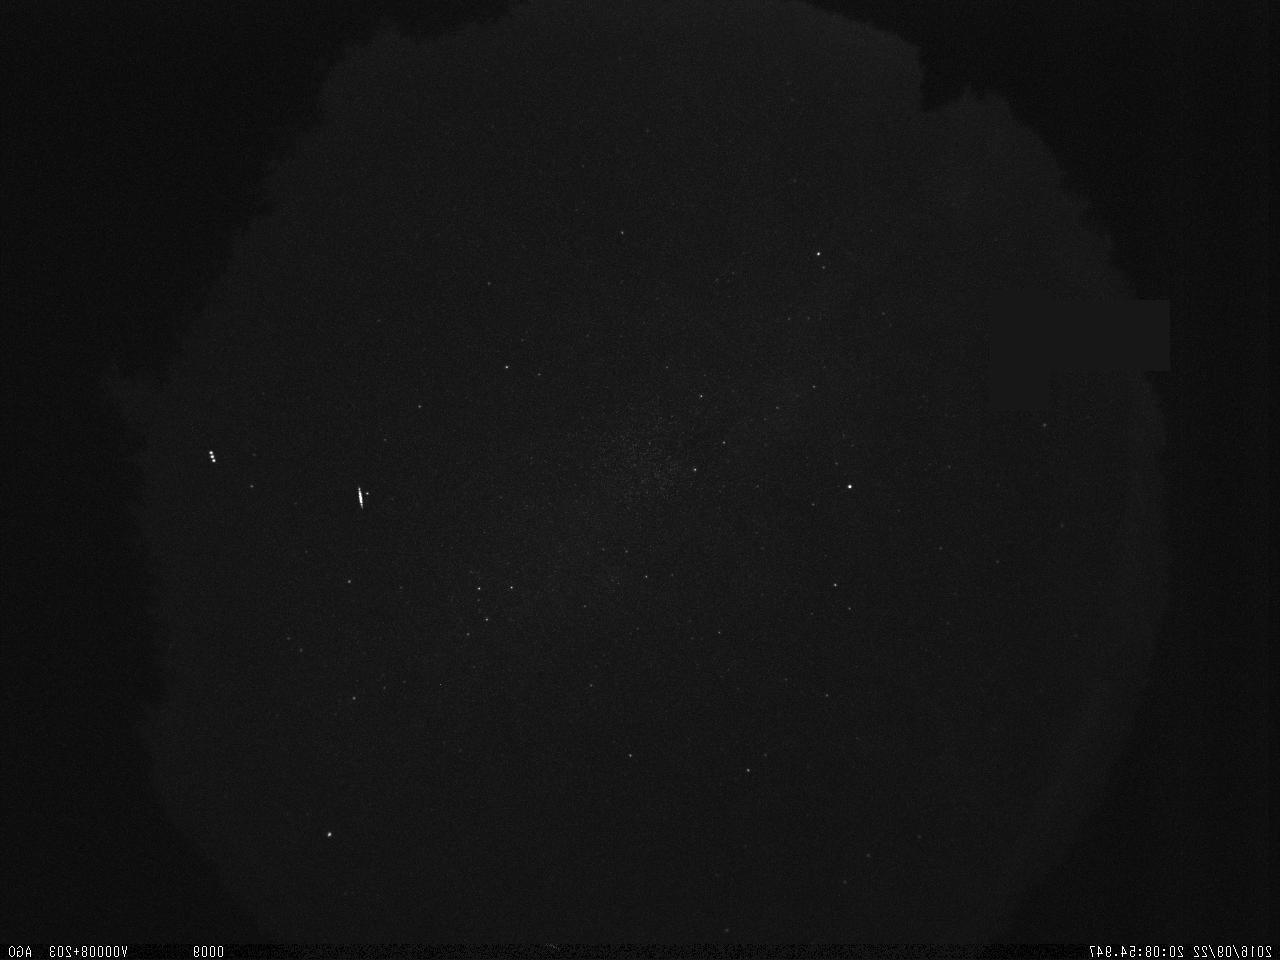meteor: (349, 481, 369, 517)
satelite: (203, 446, 222, 471)
